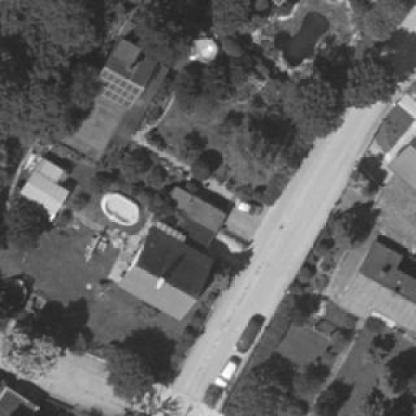solar-pv-panel: (92, 69, 141, 110)
